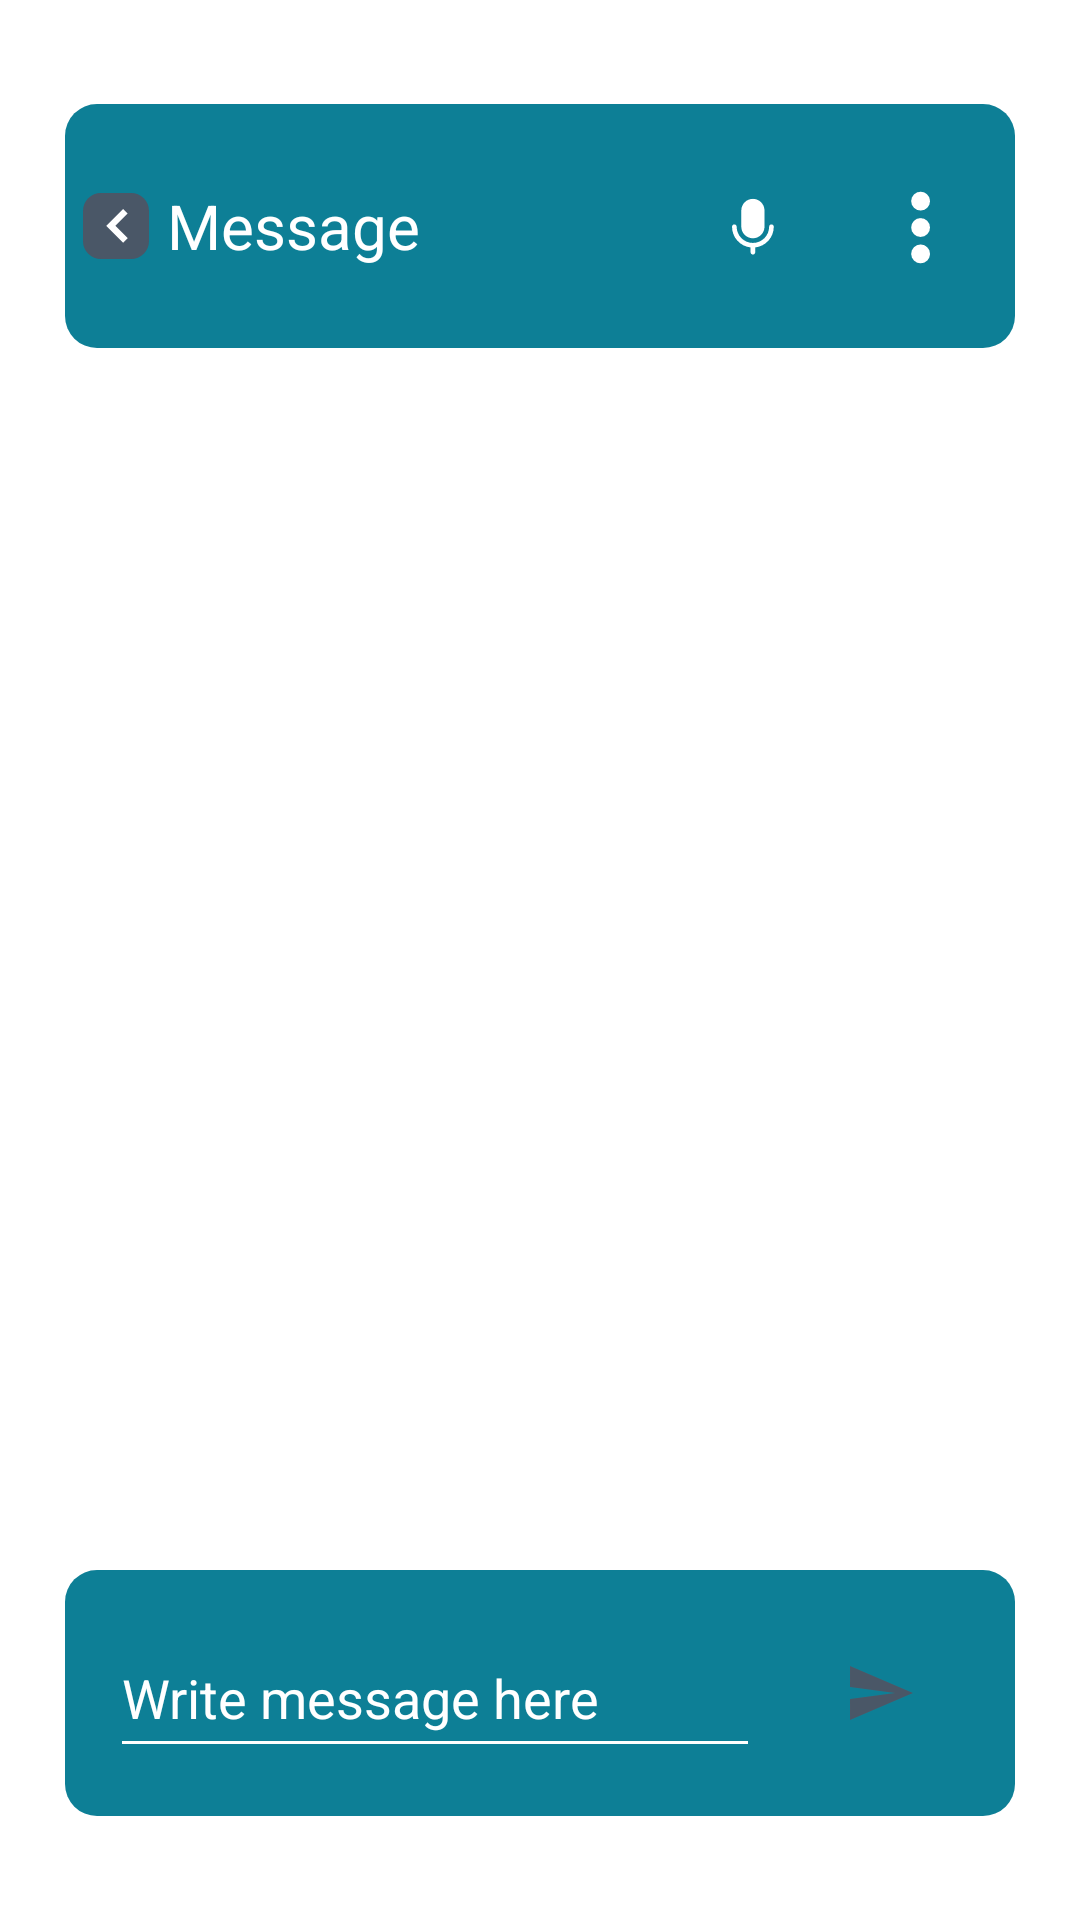

Icon click points for this 1080×1920 phone screenshot, format (x=x, y=y):
Icon Back: (x=116, y=226)
mic: (x=753, y=227)
send: (x=881, y=1693)
